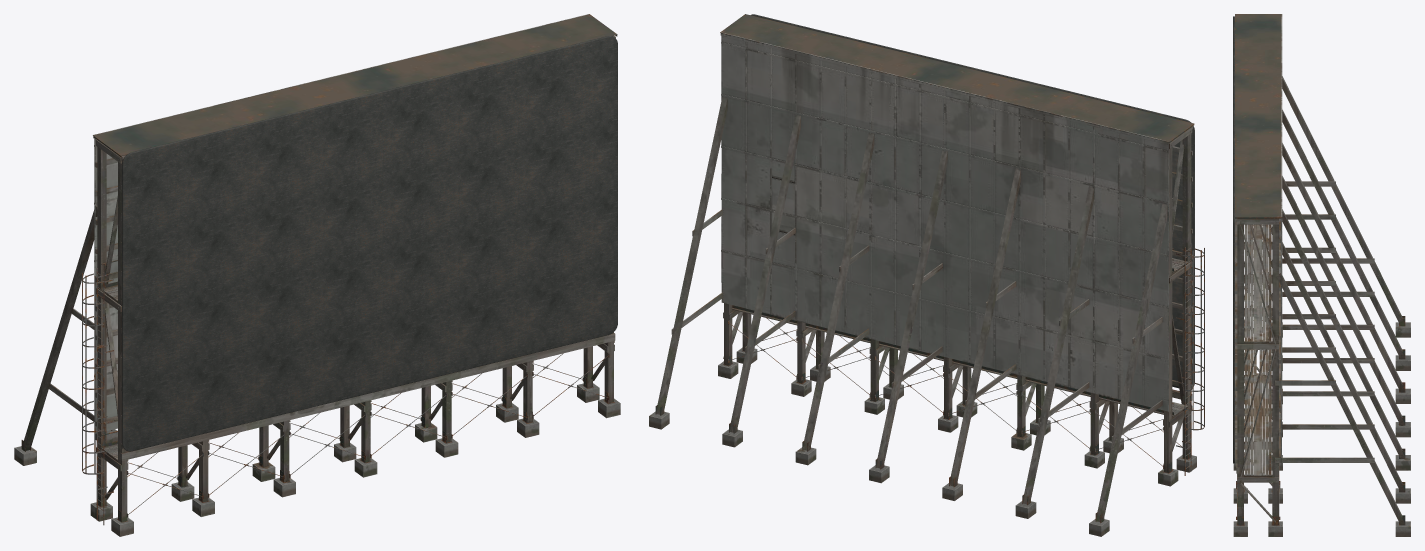
File: screen.glb
The picture shows the model from 3 angles, left to right: view 1: azimuth 30°, elevation 25°; view 2: azimuth 150°, elevation 25°; view 3: azimuth 270°, elevation 25°; orthographic projection. The views are drawn at different scales.
Visible parts, largest first — view 1: screen_panel, wood_old, steel_weathered, concrete, wood_painted; view 2: wood_painted, wood_old, steel_weathered, wood_old_rear, concrete, screen_panel; view 3: wood_old_rear, wood_old, steel_weathered, concrete, screen_panel, wood_painted, steel_weathered_rear.
Boxes of the visible parts, box(x1,y1,x2,y2) form: screen_panel: box(122, 36, 617, 451); wood_old: box(21, 36, 615, 521); steel_weathered: box(21, 14, 617, 525); concrete: box(14, 383, 620, 536); wood_painted: box(93, 14, 589, 433); wood_painted: box(720, 32, 1168, 411); wood_old: box(656, 126, 1192, 522); steel_weathered: box(655, 14, 1204, 523); wood_old_rear: box(674, 97, 1192, 417); concrete: box(649, 347, 1196, 536); screen_panel: box(750, 14, 1194, 388); wood_old_rear: box(1235, 109, 1371, 477); wood_old: box(1235, 76, 1405, 525); steel_weathered: box(1235, 14, 1405, 525); concrete: box(1233, 322, 1410, 536); screen_panel: box(1233, 16, 1234, 463); wood_painted: box(1280, 14, 1282, 466); steel_weathered_rear: box(1269, 224, 1270, 454).
Bounding box in the file's own units: 23.19 × 16.17 × 8.15.
Materials: 7 (7 with a texture image).
